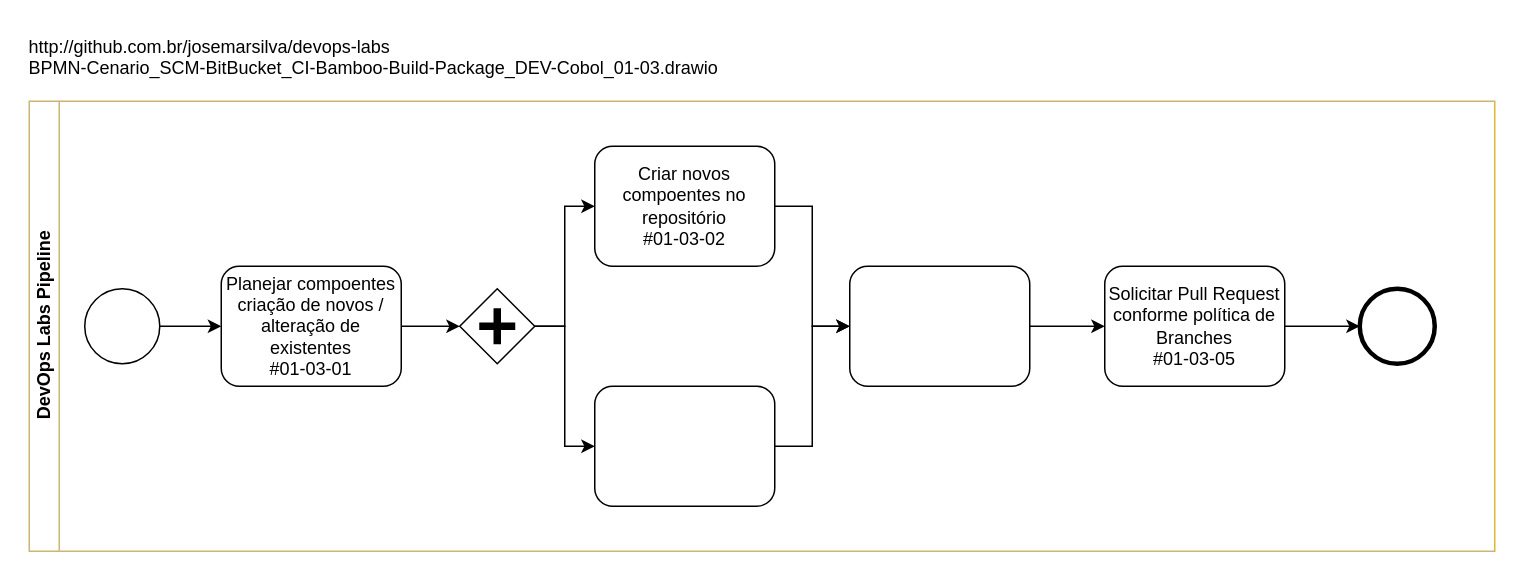
Image size: 1521x578. Some labels were removed from this diagram. The shapes that lost their labels are listed below. From the top down, each one's box as (x1, y1, x2, y2) in pixels, then its label:
(848, 265, 1030, 386): Executar Commit and Push no repositorio #01-03-04
(593, 385, 775, 506): Alterar compoentes existentes no repositório #01-03-03
